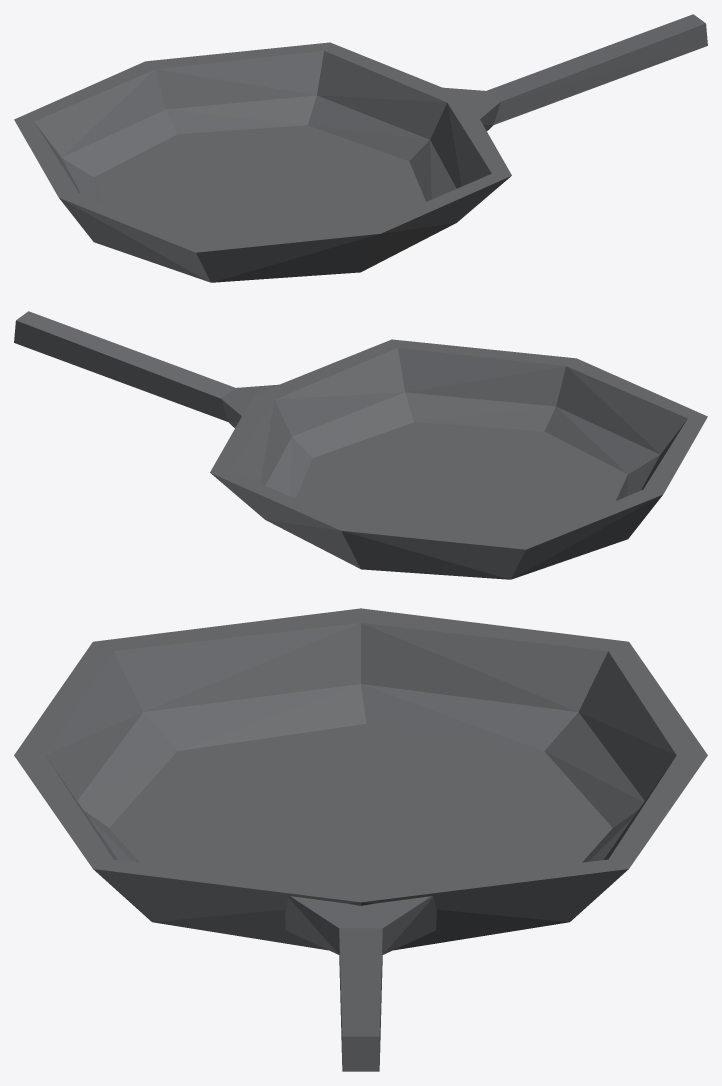
Rendered from stainlessSteelSkilletShallow.fbx.
3 views of the same model, one above another, from view 1: azimuth 30°, elevation 25°; view 2: azimuth 150°, elevation 25°; view 3: azimuth 270°, elevation 25° (orthographic). The views are drawn at different scales.
Visible parts, largest first — view 1: stainlessSteelSkilletShallow; view 2: stainlessSteelSkilletShallow; view 3: stainlessSteelSkilletShallow.
Boxes of the visible parts, x1,y1,x2,y2 form: stainlessSteelSkilletShallow: (14,14,707,282); stainlessSteelSkilletShallow: (14,311,707,579); stainlessSteelSkilletShallow: (14,608,707,1071).
Size of the model in its own units: 73.9 by 8.3 by 46.88.
1 material, 1 textured.
